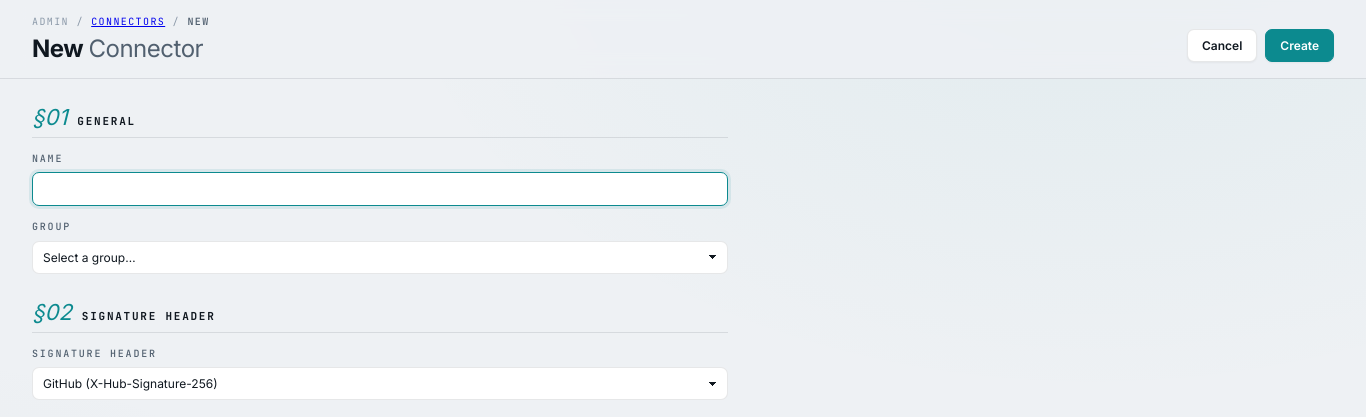
it: ConnectorForm › shows one-time secret panel after successful create
The width and height of the screenshot is (1366, 417).
Type "my-connector" into the field labelled "Name" at [380, 189], box top-left (32, 172), bottom-right (728, 206)
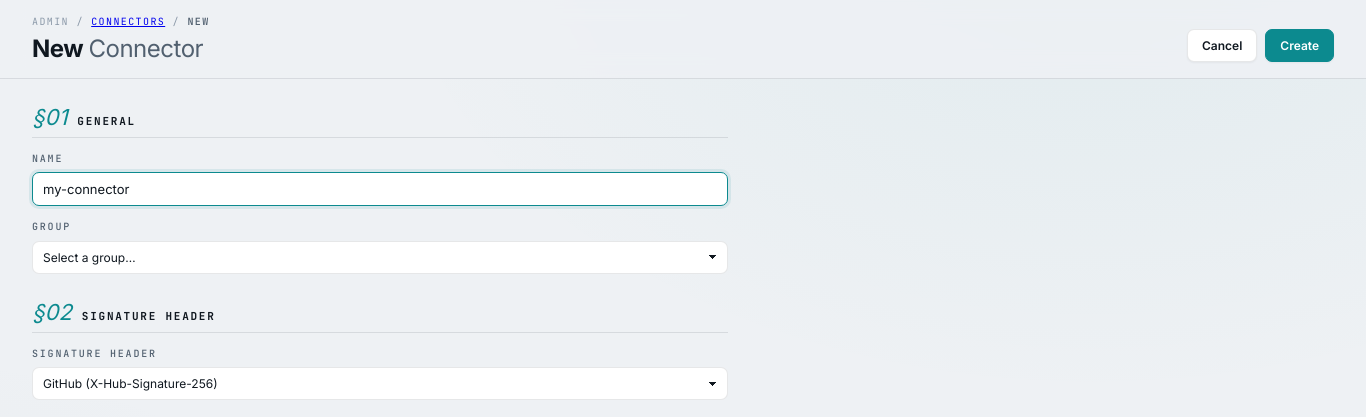
Select "Team A" in the dropdown labelled "Group" at [380, 257], box top-left (32, 241), bottom-right (728, 274)
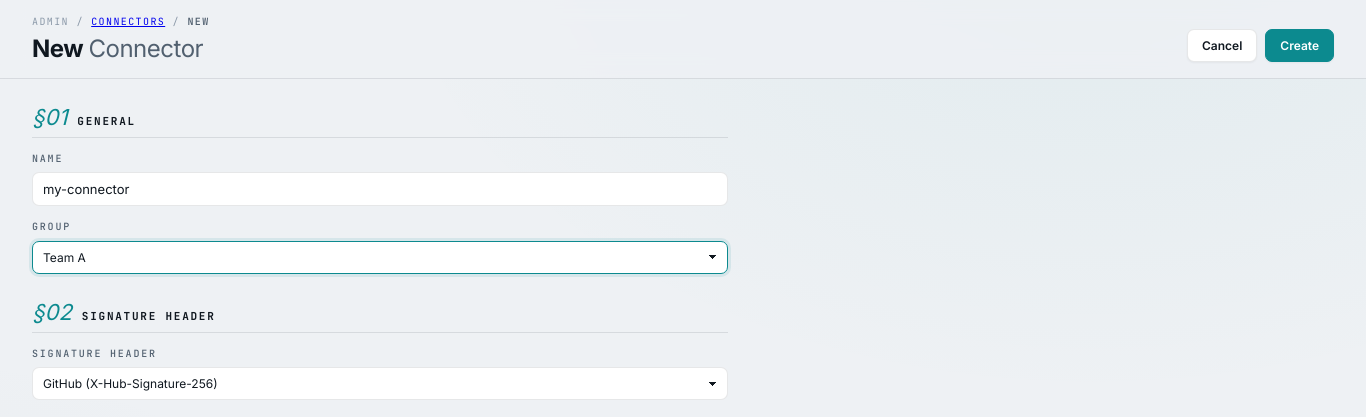
Click the button "Create" at [1300, 45], box top-left (1265, 29), bottom-right (1334, 62)
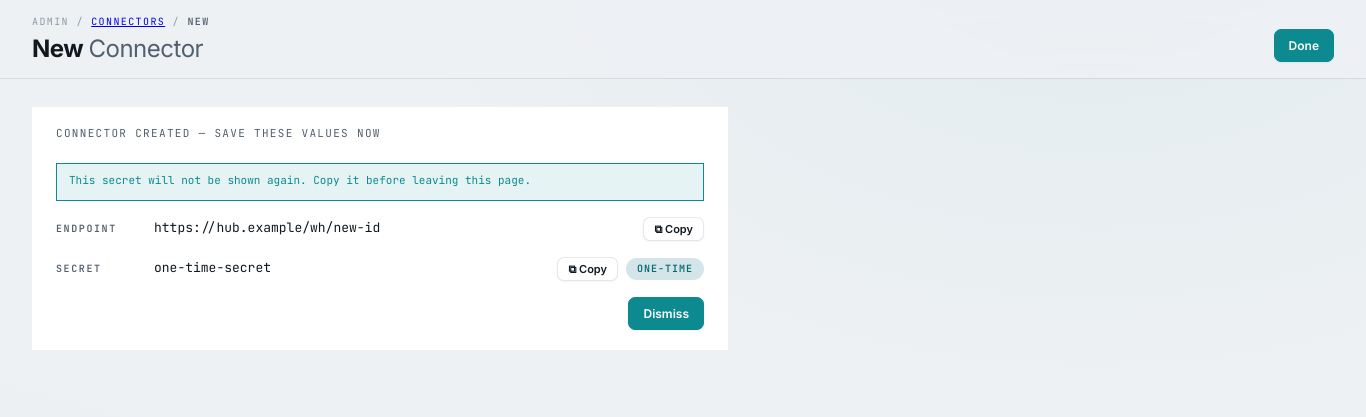
Expected: the text "This secret will not be shown again. Copy it before leaving this page." is shown, top-left (56, 163), bottom-right (704, 201)
Expected: the text "https://hub.example/wh/new-id" is shown, top-left (154, 219), bottom-right (380, 236)
Expected: the text "one-time-secret" is shown, top-left (154, 259), bottom-right (271, 276)
